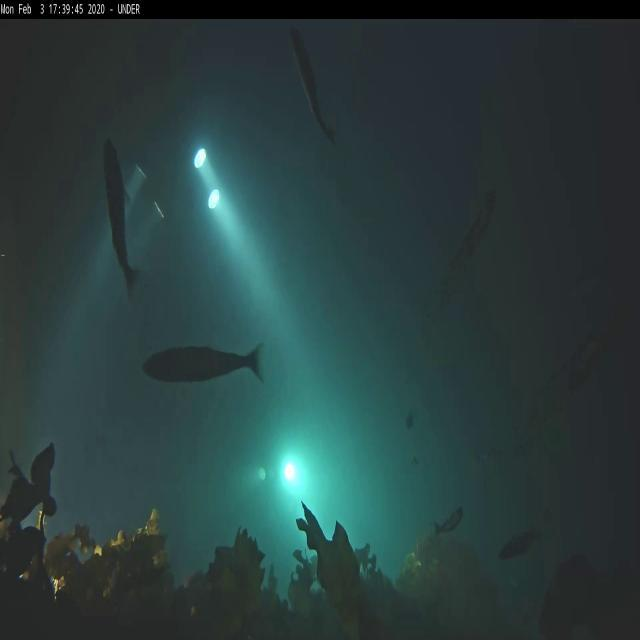fish: (290, 24, 336, 144), (105, 134, 138, 290), (141, 344, 267, 382), (456, 179, 500, 270), (501, 530, 541, 564), (438, 508, 466, 538)
